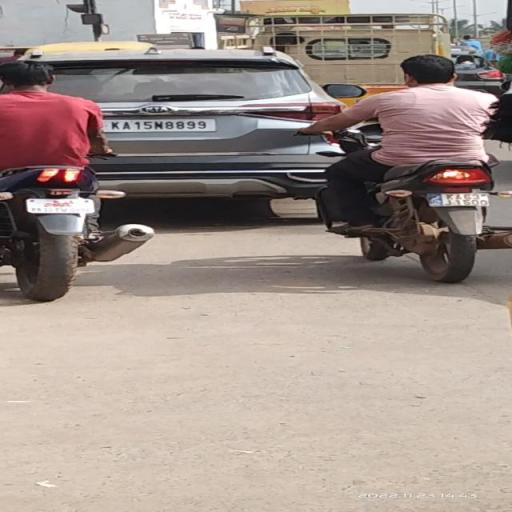bike: (299, 49, 512, 286)
numberplate: (428, 191, 490, 208)
withouthelmet: (404, 55, 452, 82)
